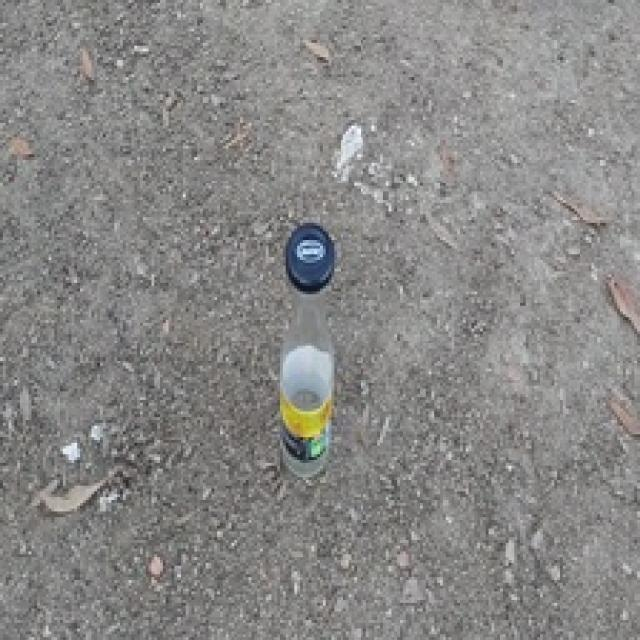Glass: (284, 278, 334, 482)
